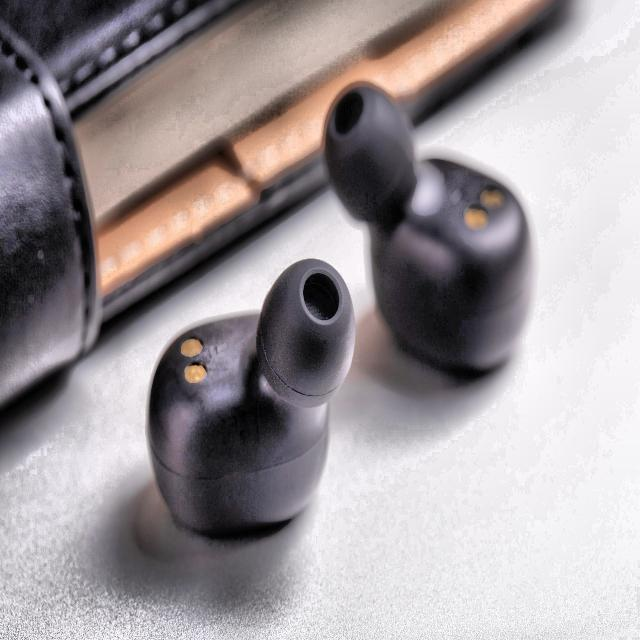Bluetooth headphones: (325, 86, 531, 370), (149, 259, 355, 532)
